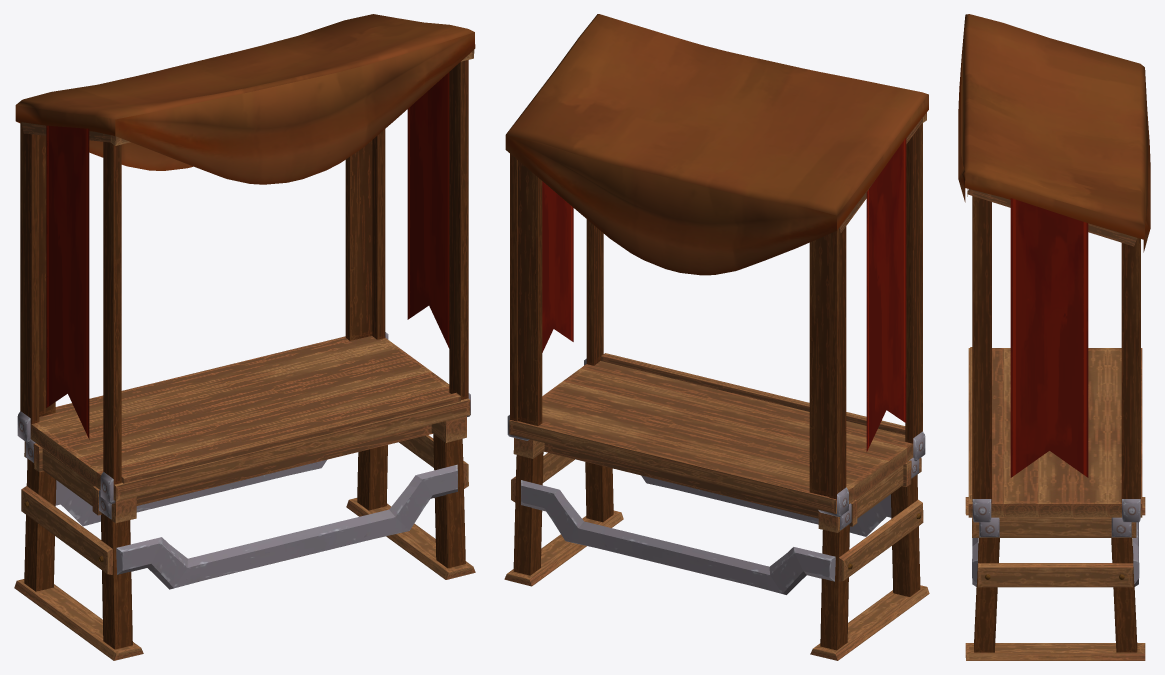
Rendered from market-stall.glb.
3 renders of one model, left to right at view 1: azimuth 30°, elevation 25°; view 2: azimuth 150°, elevation 25°; view 3: azimuth 270°, elevation 25°, orthographic. The views are drawn at different scales.
Visible parts, largest first — view 1: Stall_Empty; view 2: Stall_Empty; view 3: Stall_Empty.
Boxes of the visible parts, <box> form: Stall_Empty: <box>14,14,475,660</box>; Stall_Empty: <box>504,14,929,660</box>; Stall_Empty: <box>958,14,1150,660</box>.
Bounding box in the file's own units: 1.84 × 2.63 × 0.9323.
3 materials, 3 textured.
